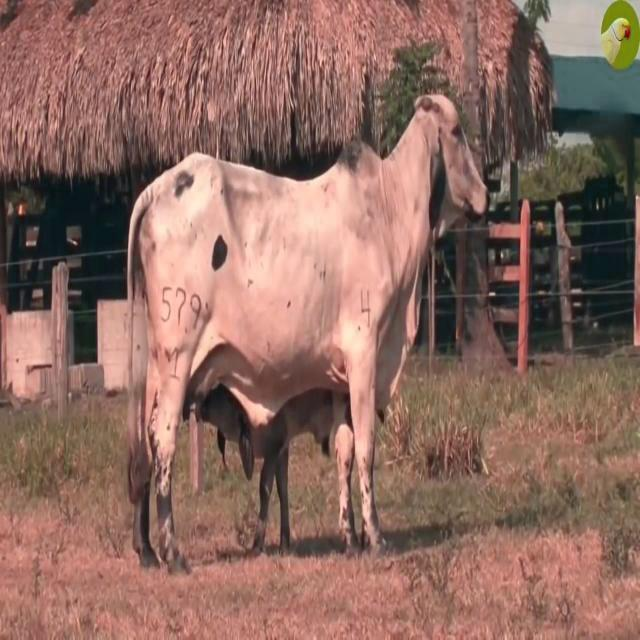cow: (128, 95, 486, 571)
